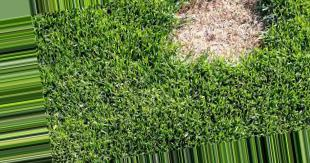patch: (200, 7, 245, 45), (251, 20, 271, 42), (183, 25, 197, 44)
